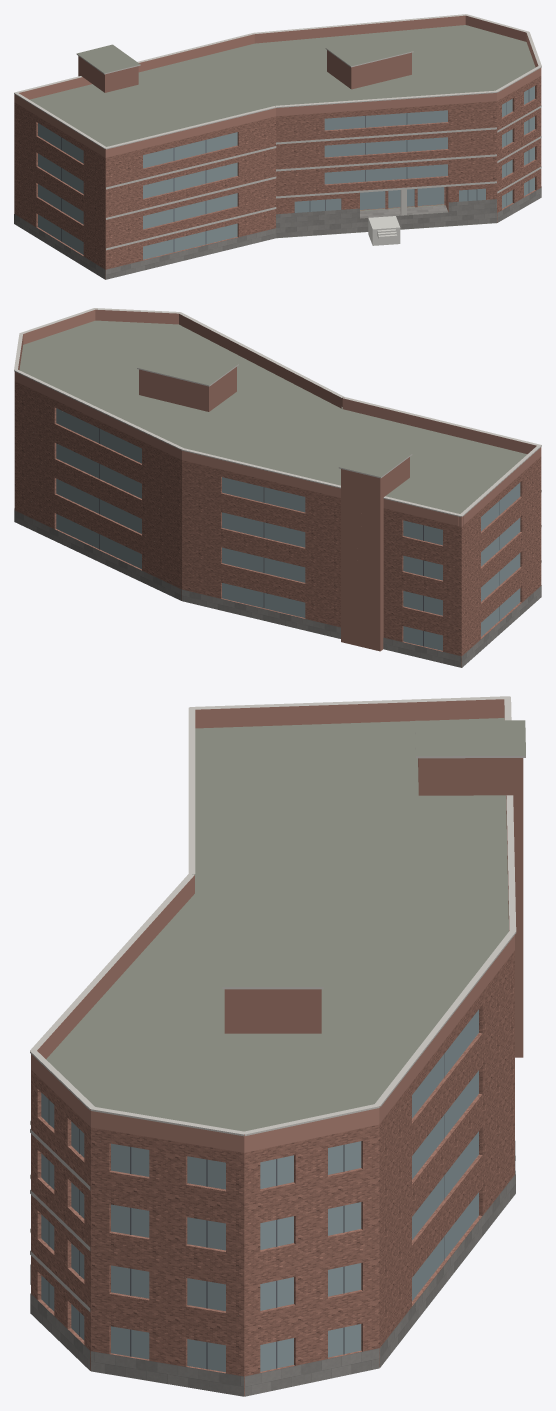
3 renders of one model, top to bottom at view 1: azimuth 30°, elevation 25°; view 2: azimuth 150°, elevation 25°; view 3: azimuth 270°, elevation 25°, orthographic. The views are drawn at different scales.
Parts seen in each view (by area): view 1: b153__wall, b153__roof, b153__glass, b153__parapet, b153__base, b153__trim, b153__wall2, b153__entranceStair, b153__frame; view 2: b153__wall, b153__roof, b153__glass, b153__parapet, b153__wall2, b153__base, b153__trim; view 3: b153__roof, b153__wall, b153__glass, b153__parapet, b153__wall2, b153__base, b153__trim, b153__frame.
Boxes of the visible parts, x1,y1,x2,y2 form: b153__wall: [14, 76, 541, 279]; b153__roof: [29, 25, 535, 238]; b153__glass: [38, 86, 534, 259]; b153__parapet: [14, 15, 541, 157]; b153__base: [14, 186, 541, 279]; b153__trim: [14, 14, 541, 250]; b153__wall2: [78, 50, 411, 92]; b153__entranceStair: [368, 216, 400, 245]; b153__frame: [61, 89, 529, 251]; b153__wall: [14, 381, 541, 667]; b153__roof: [19, 320, 526, 513]; b153__glass: [56, 408, 520, 650]; b153__parapet: [14, 309, 541, 526]; b153__wall2: [139, 367, 409, 651]; b153__base: [14, 508, 541, 667]; b153__trim: [14, 308, 541, 562]; b153__roof: [46, 718, 525, 1396]; b153__wall: [31, 950, 514, 1396]; b153__glass: [41, 1009, 478, 1372]; b153__parapet: [31, 699, 514, 1152]; b153__wall2: [224, 758, 523, 1057]; b153__base: [30, 1141, 515, 1396]; b153__trim: [30, 696, 525, 1311]; b153__frame: [48, 1054, 444, 1369].
Size of the model in its own units: 55.59 by 18.21 by 26.59.
11 materials, 2 textured.
